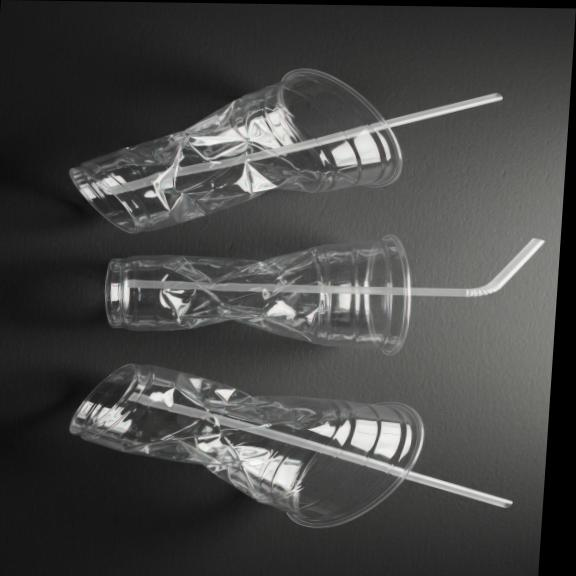Plastik: (64, 366, 428, 530), (70, 365, 422, 527), (70, 69, 400, 232), (106, 236, 410, 354)
